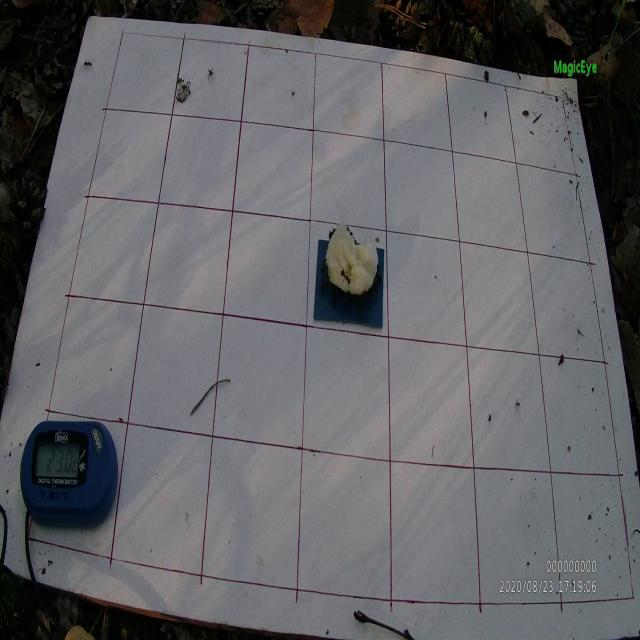Ant: (336, 265, 352, 287), (79, 59, 94, 70), (208, 68, 215, 82), (321, 258, 327, 274)
